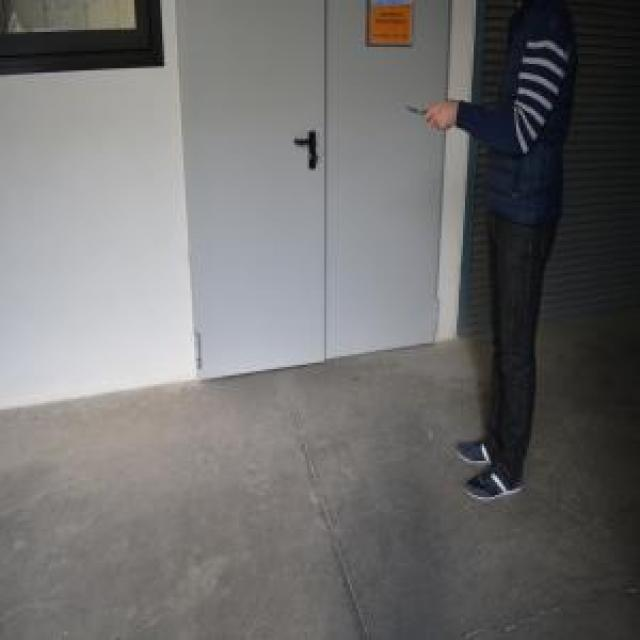knife: (401, 102, 433, 121)
